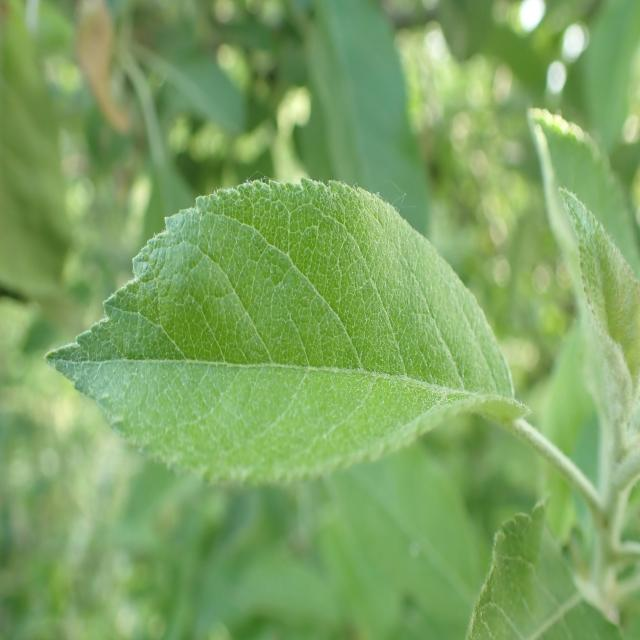healthy: (42, 175, 528, 488), (465, 498, 623, 640)
